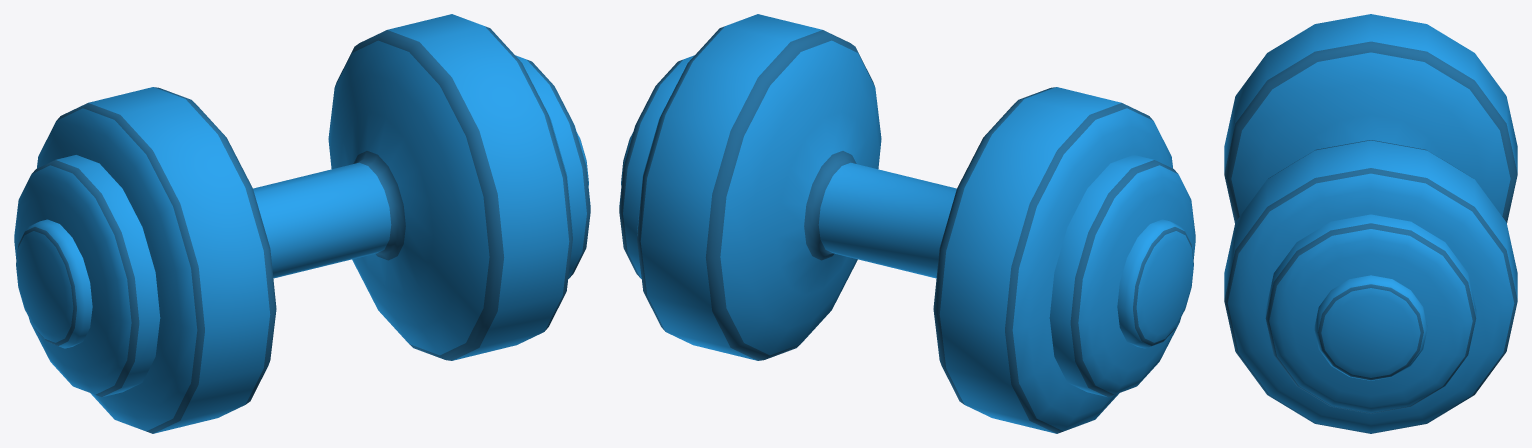
Rendered from dumbell.fbx.
3 views of the same model, side by side, from view 1: azimuth 30°, elevation 25°; view 2: azimuth 150°, elevation 25°; view 3: azimuth 270°, elevation 25° (orthographic). The views are drawn at different scales.
Parts seen in each view (by area): view 1: dumbell; view 2: dumbell; view 3: dumbell.
Part boxes in pixels (x1,y1,x2,y2): dumbell: [14, 14, 590, 433]; dumbell: [619, 14, 1195, 433]; dumbell: [1224, 14, 1517, 433].
Size of the model in its own units: 1.38 by 0.7664 by 0.7664.
